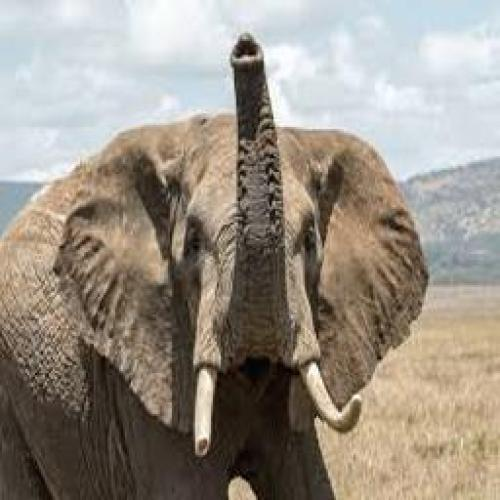african_elephant-endangered: (3, 32, 426, 500)
